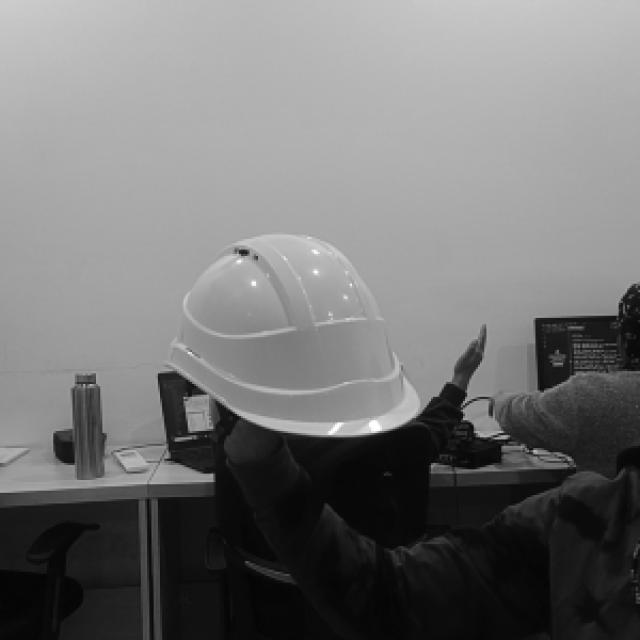safety_helmet: (160, 232, 422, 440)
